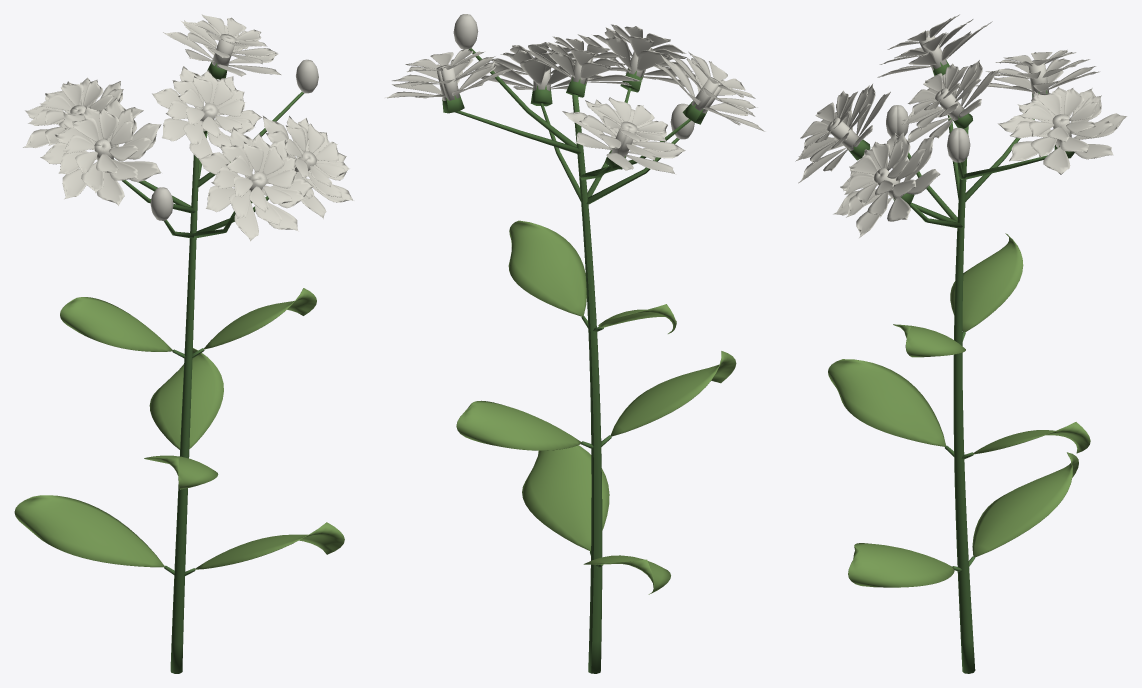
Rendered from jasmine-legendary-v2.glb.
3 views of the same model, side by side, from view 1: azimuth 30°, elevation 25°; view 2: azimuth 150°, elevation 25°; view 3: azimuth 270°, elevation 25° (orthographic). The views are drawn at different scales.
Visible parts, largest first — view 1: jasmine-legendary-v2-petal, jasmine-legendary-v2-leaf, jasmine-legendary-v2-stem; view 2: jasmine-legendary-v2-leaf, jasmine-legendary-v2-petal, jasmine-legendary-v2-stem; view 3: jasmine-legendary-v2-petal, jasmine-legendary-v2-leaf, jasmine-legendary-v2-stem.
Part boxes in pixels (x1=…): jasmine-legendary-v2-petal: x1=23, y1=14, x2=353, y2=241; jasmine-legendary-v2-leaf: x1=14, y1=288, x2=344, y2=569; jasmine-legendary-v2-stem: x1=114, y1=59, x2=304, y2=673; jasmine-legendary-v2-leaf: x1=456, y1=220, x2=736, y2=594; jasmine-legendary-v2-petal: x1=384, y1=14, x2=765, y2=174; jasmine-legendary-v2-stem: x1=442, y1=48, x2=707, y2=673; jasmine-legendary-v2-petal: x1=795, y1=14, x2=1127, y2=237; jasmine-legendary-v2-leaf: x1=828, y1=233, x2=1090, y2=587; jasmine-legendary-v2-stem: x1=847, y1=59, x2=1074, y2=673.
Bounding box in the file's own units: 0.7928 × 1.59 × 0.7736.
